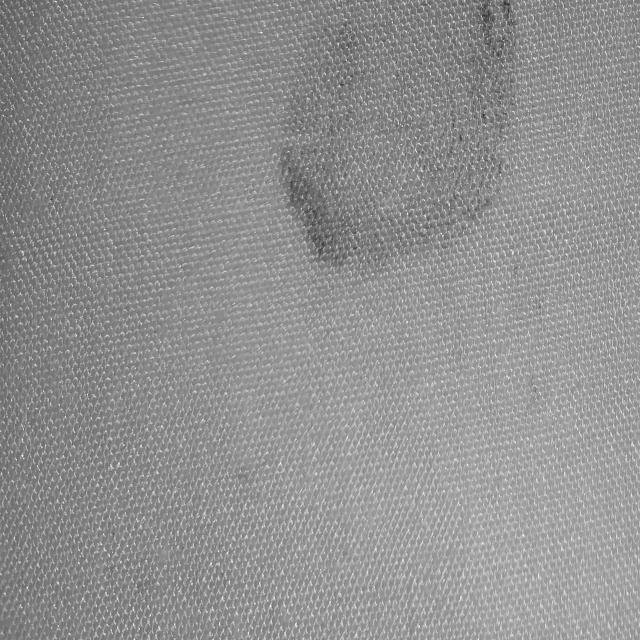Stain: (278, 0, 514, 270)
